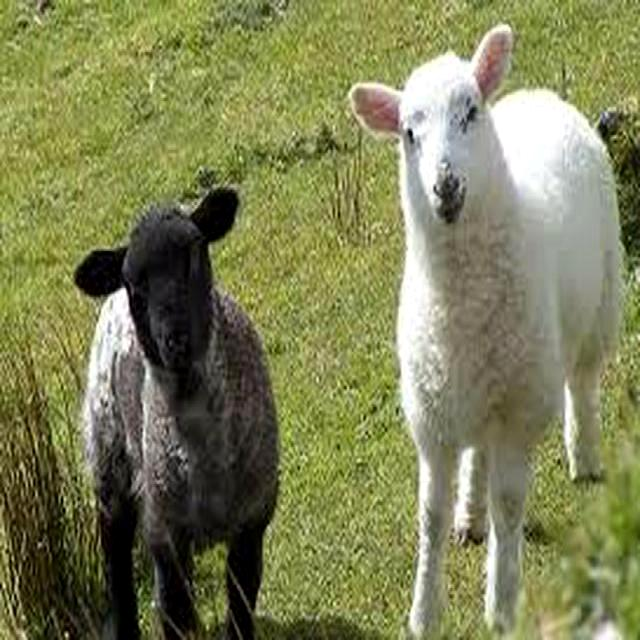sheep: (348, 25, 623, 635), (72, 189, 279, 640)
